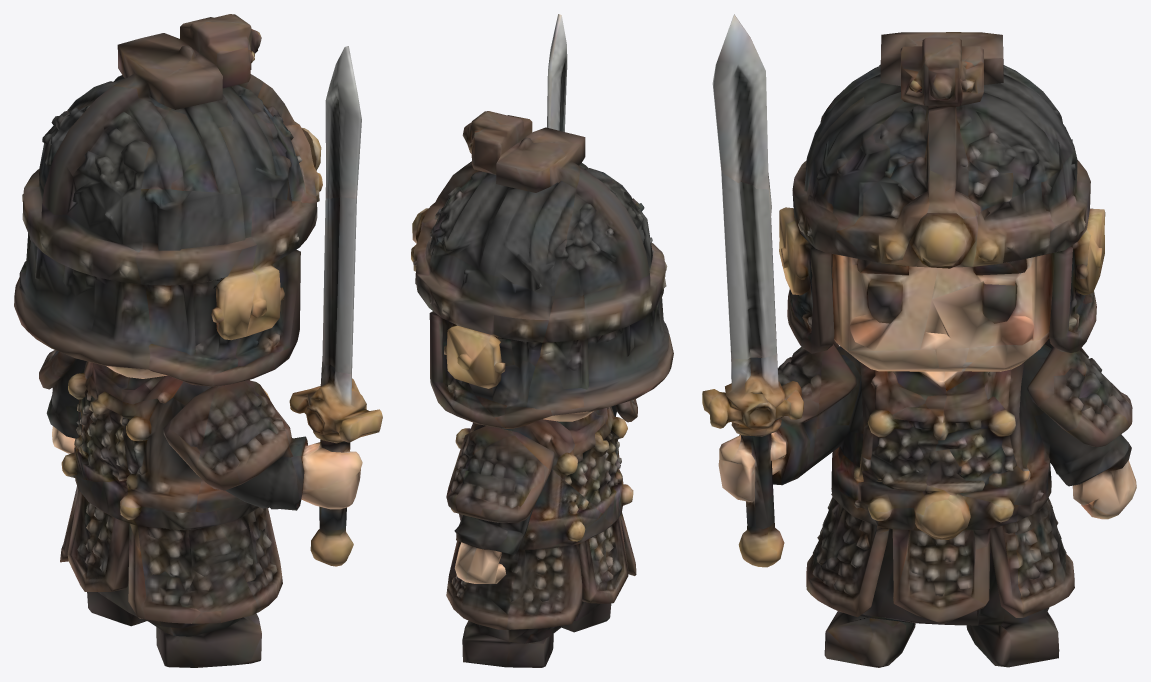
The model's file is fig-general.glb.
The picture shows the model from 3 angles, left to right: view 1: azimuth 30°, elevation 25°; view 2: azimuth 150°, elevation 25°; view 3: azimuth 270°, elevation 25°; orthographic projection. The views are drawn at different scales.
Visible parts, largest first — view 1: tripo_node_1457c2d1-9fd8-4337-8655-c1f9d4a08fe5; view 2: tripo_node_1457c2d1-9fd8-4337-8655-c1f9d4a08fe5; view 3: tripo_node_1457c2d1-9fd8-4337-8655-c1f9d4a08fe5.
Part boxes in pixels (x1,y1,x2,y2): tripo_node_1457c2d1-9fd8-4337-8655-c1f9d4a08fe5: (14, 14, 382, 667); tripo_node_1457c2d1-9fd8-4337-8655-c1f9d4a08fe5: (411, 14, 673, 667); tripo_node_1457c2d1-9fd8-4337-8655-c1f9d4a08fe5: (702, 14, 1136, 667).
Bounding box in the file's own units: 0.4613 × 0.9991 × 0.5912.
Materials: 1 (1 with a texture image).
